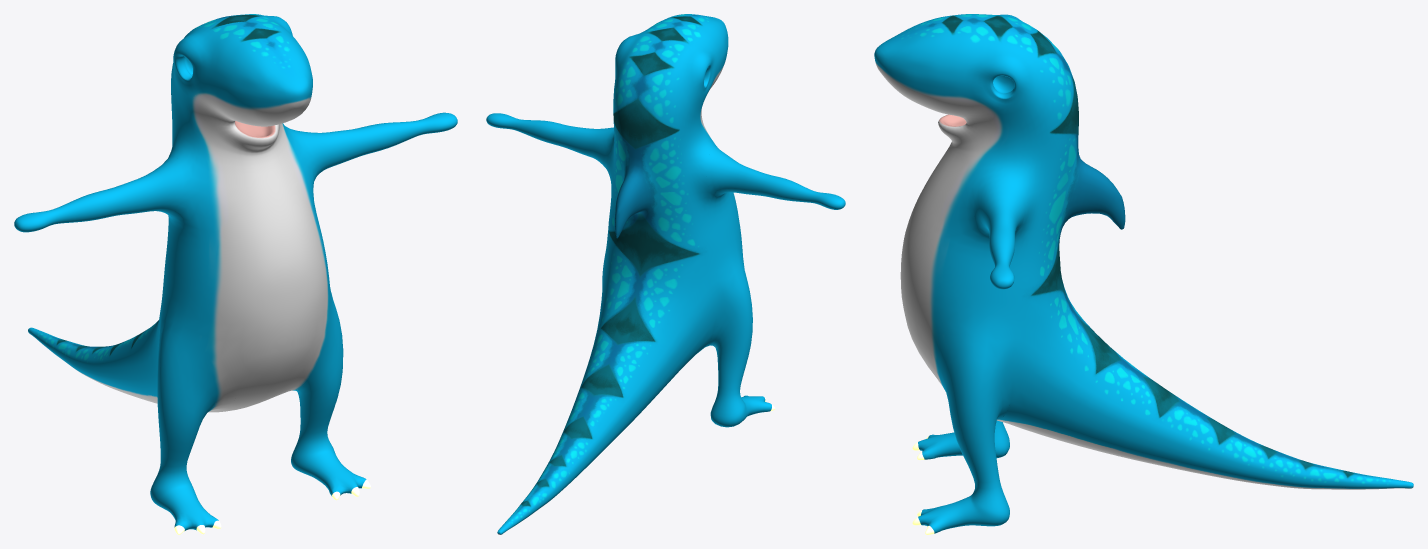
File: Dino_Shark_Boy_Model.glb
3 views of the same model, side by side, from view 1: azimuth 30°, elevation 25°; view 2: azimuth 150°, elevation 25°; view 3: azimuth 270°, elevation 25° (orthographic). The views are drawn at different scales.
Parts seen in each view (by area): view 1: Body.001; view 2: Body.001; view 3: Body.001.
Boxes of the visible parts, box(x1,y1,x2,y2) form: Body.001: box(14, 14, 457, 534); Body.001: box(486, 14, 845, 534); Body.001: box(874, 14, 1413, 534).
Bounding box in the file's own units: 1.76 × 1.81 × 1.88.
2 materials, 2 textured.
